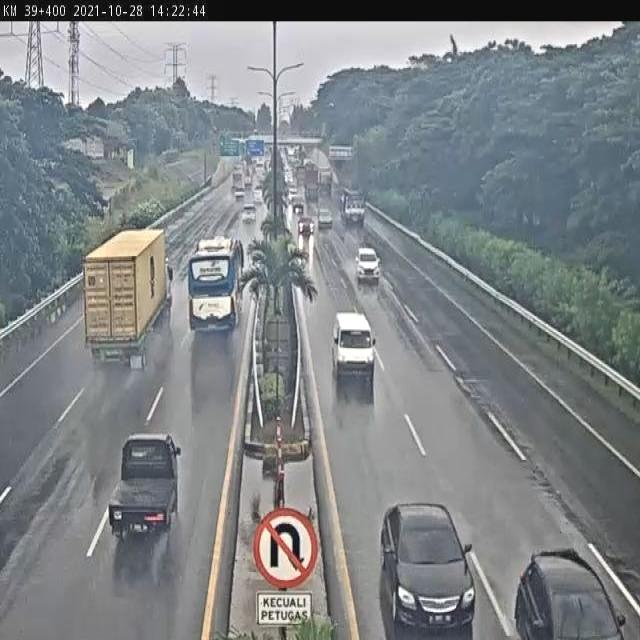Bus: (187, 236, 245, 335)
Car: (381, 501, 477, 634), (513, 549, 629, 638), (108, 433, 182, 548), (331, 311, 376, 396), (356, 246, 380, 284), (317, 208, 333, 229), (298, 216, 314, 236), (242, 204, 256, 223)
Truck: (82, 229, 174, 370), (340, 188, 368, 224)
